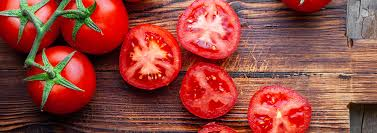milho: (6, 8, 314, 128)
